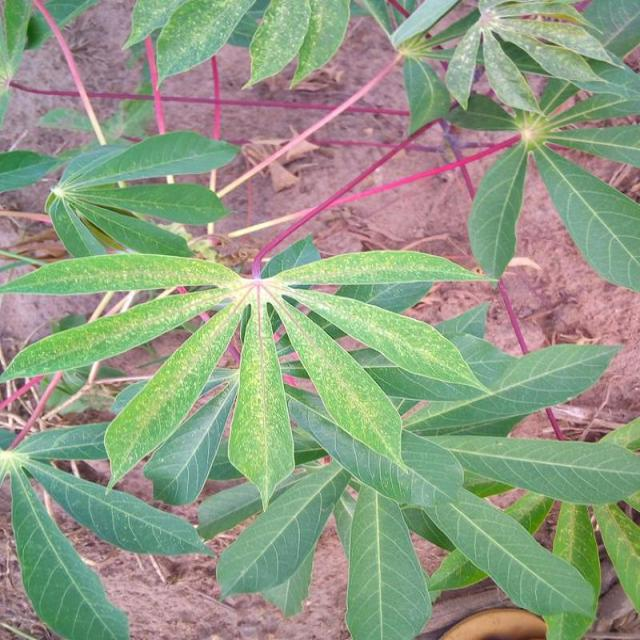cassava leaf: (0, 1, 638, 637), (1, 232, 497, 511)
